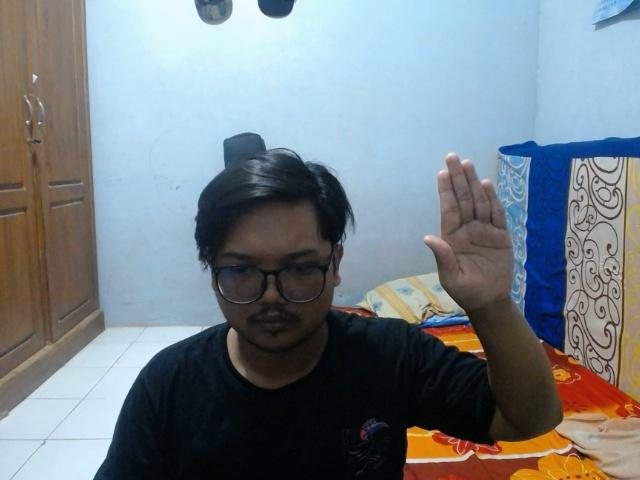Release: (418, 148, 517, 312)
